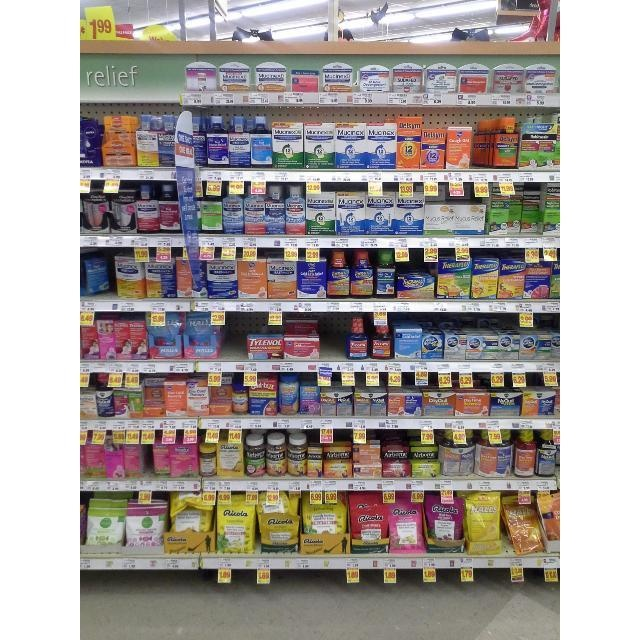empty: (319, 312, 345, 360), (225, 312, 246, 360), (471, 106, 483, 168), (144, 443, 153, 480)
